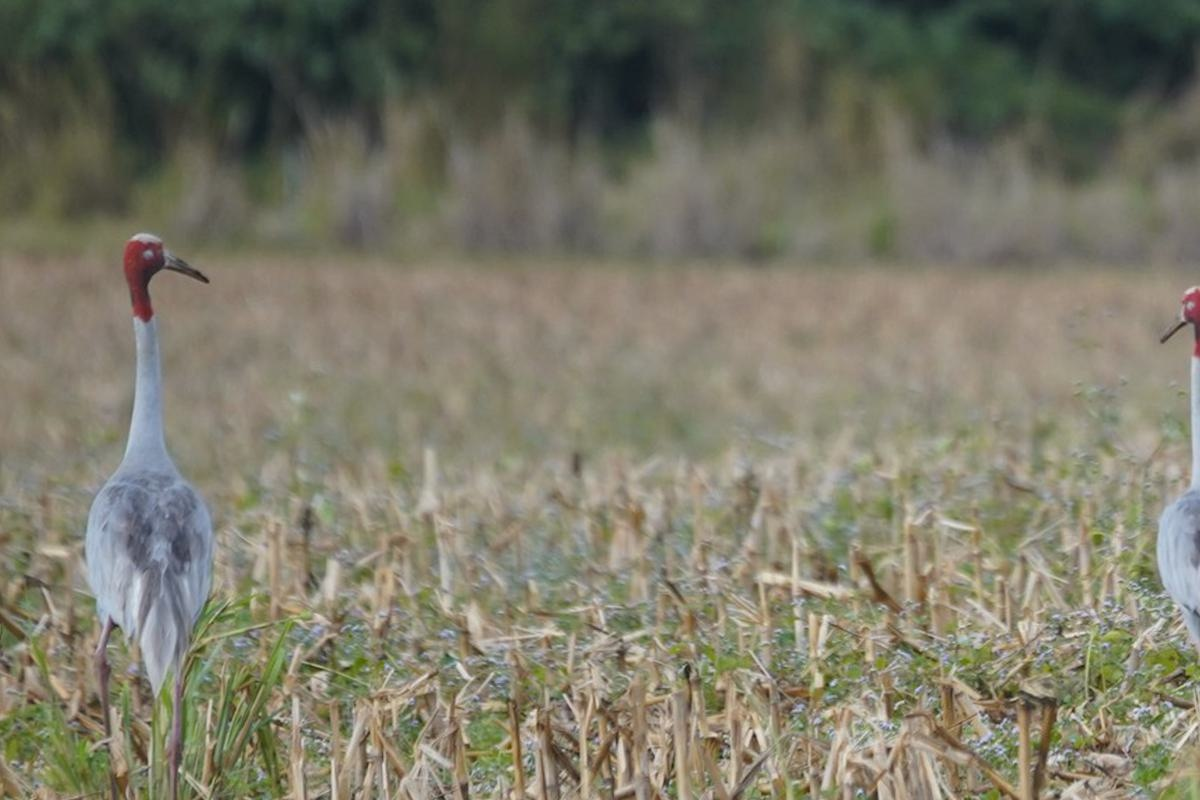crane: (81, 205, 228, 751), (1151, 271, 1200, 800)
